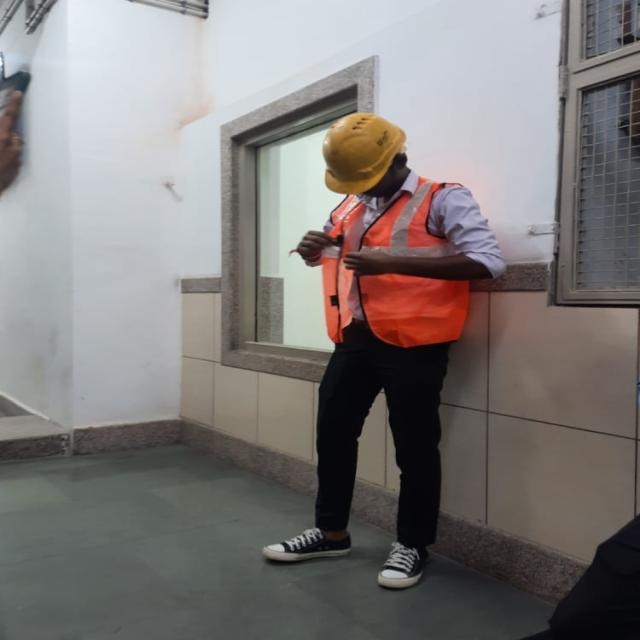safe: (261, 115, 502, 590)
